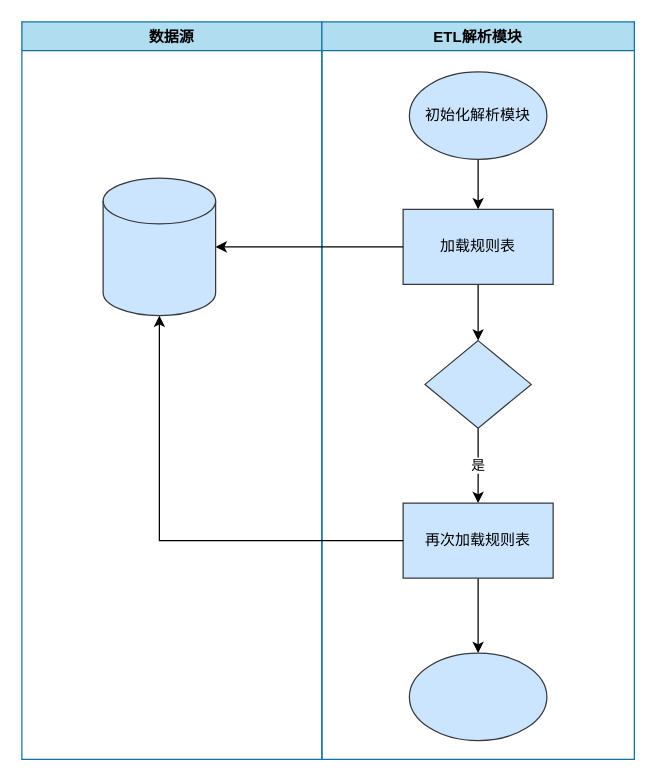
Some shapes in this 656 by 781 pixel diagram are drawn without their labels. Here are the shapes that lost their labels. From the top down, the box of each, then its label:
(102, 177, 216, 316): 解析器规则库
(424, 339, 531, 428): 需要更新
(408, 652, 547, 741): 解析模块完毕
